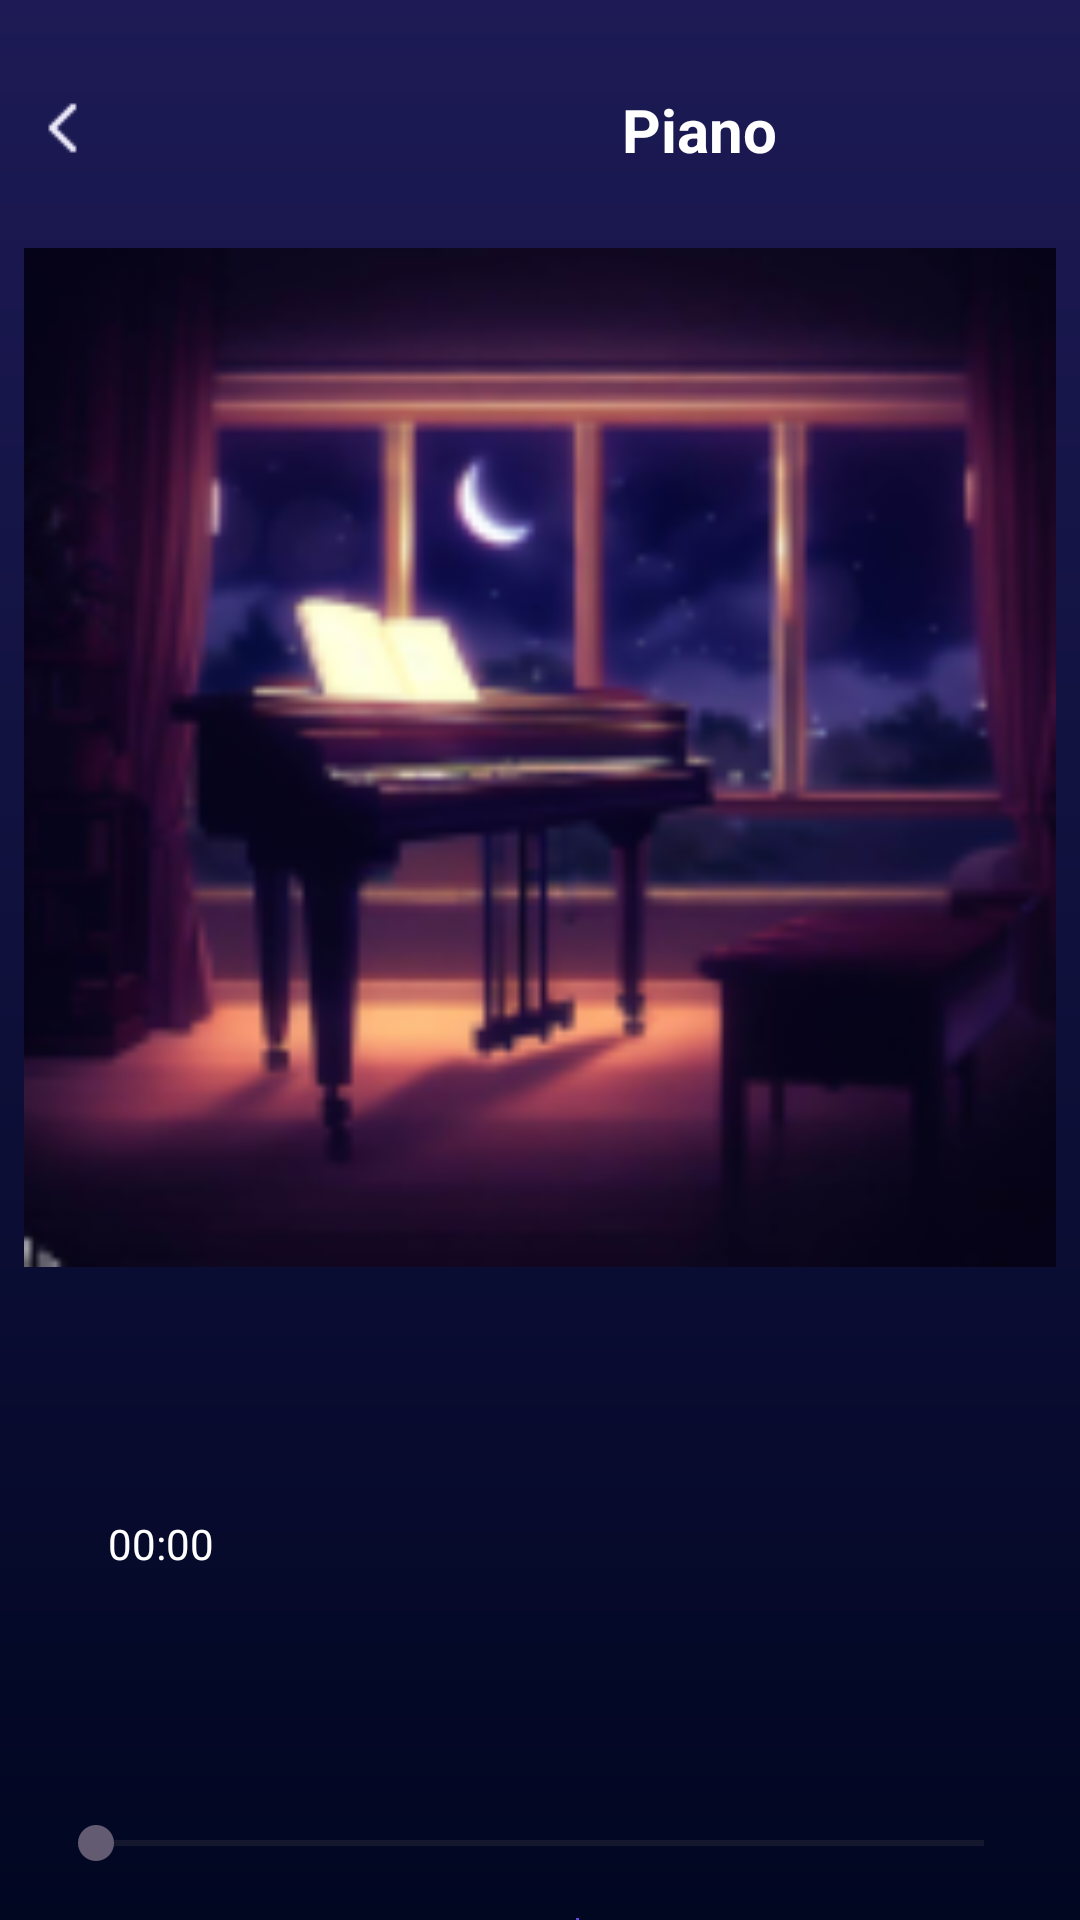

Icon click points for this 1080x1920 phone screenshot, format (x,y):
back: (62,128)
